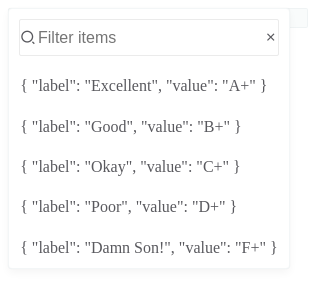
Test: OrDropdown Single Select › sets selected value
The image size is (325, 286).
What coordinates should you click on to do the following:
click the list item with class "or-dropdown-item" that starts with "{ \"label\": \"Excellent\", \"value\": \"A+\" }"
I would click on:
 (144, 86)
Its box is [20,77,267,94].
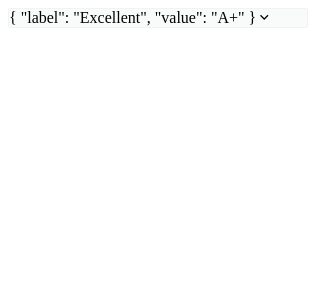
Expected: the element with class "or-dropdown-value" shows "Excellent", [9,9,256,26]
Expected: the element with class "or-dropdown-value" shows "A+", [9,9,256,26]
